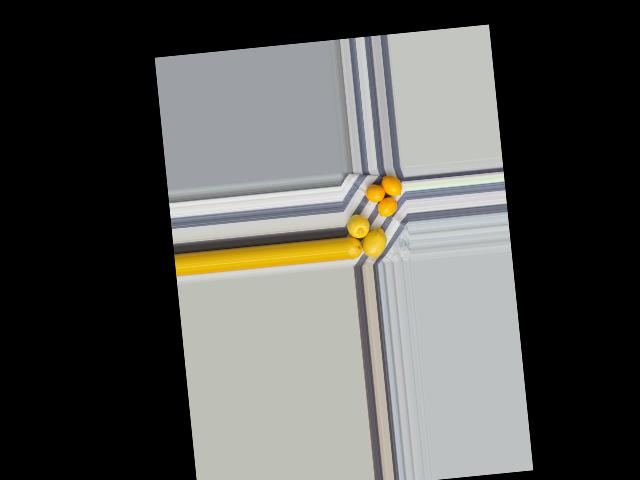lemon: (345, 235, 364, 262)
